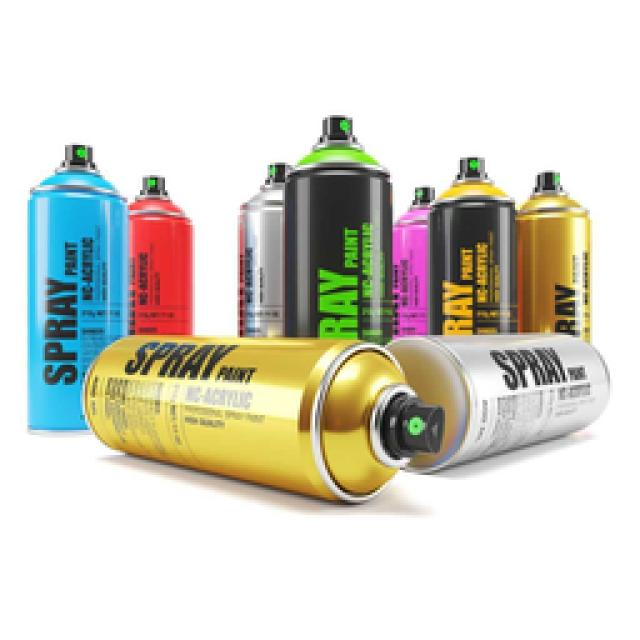B3: (284, 117, 394, 340), (23, 142, 112, 416), (428, 158, 518, 334), (515, 174, 591, 340), (128, 177, 194, 335), (237, 164, 290, 334)
